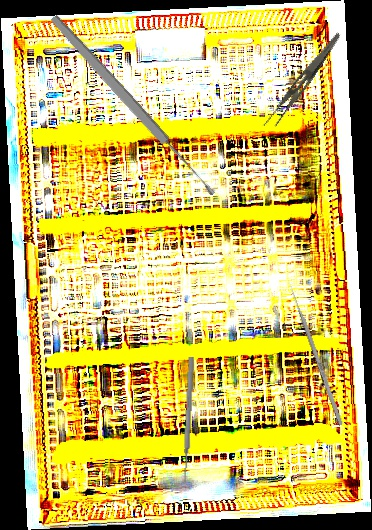Dressing Forceps: (261, 25, 342, 135)
Pusher: (286, 279, 344, 426), (180, 356, 196, 484)
Surgical Spoon: (48, 12, 218, 200)
